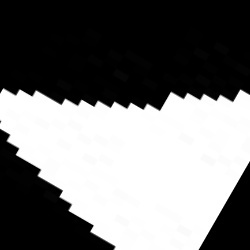spot: (1, 87, 249, 249)
